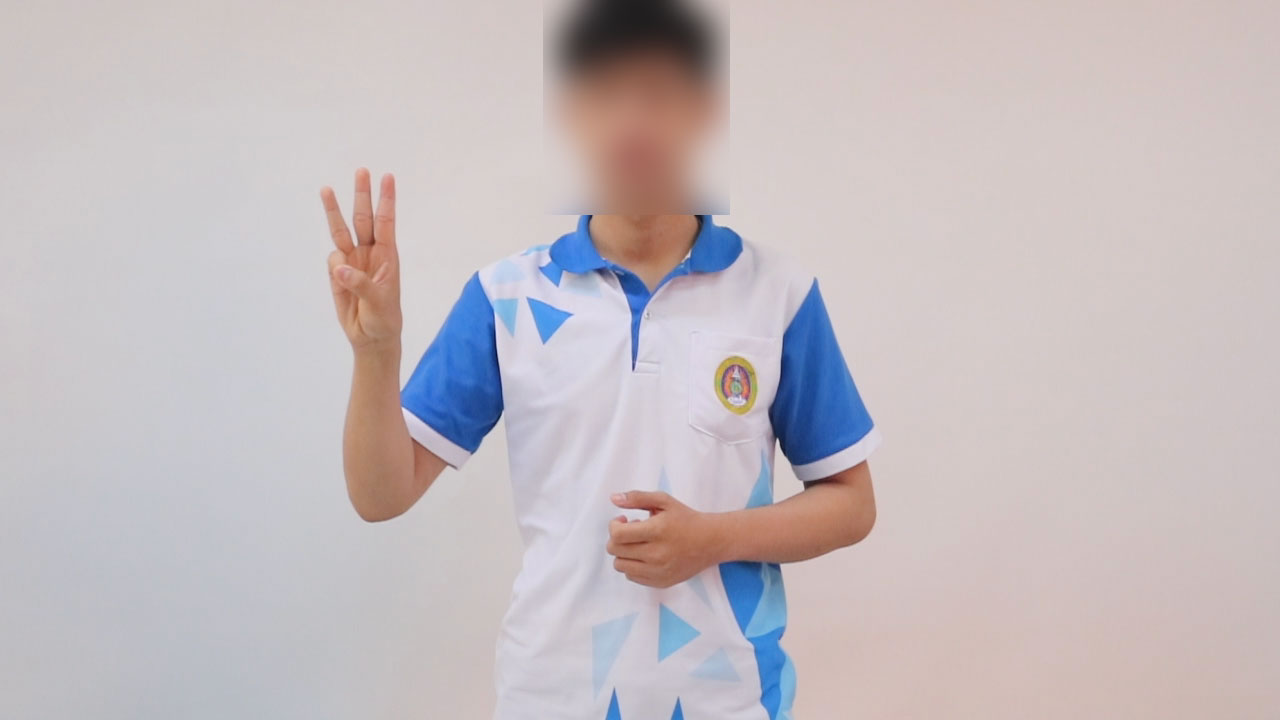wor: (313, 159, 413, 355)
